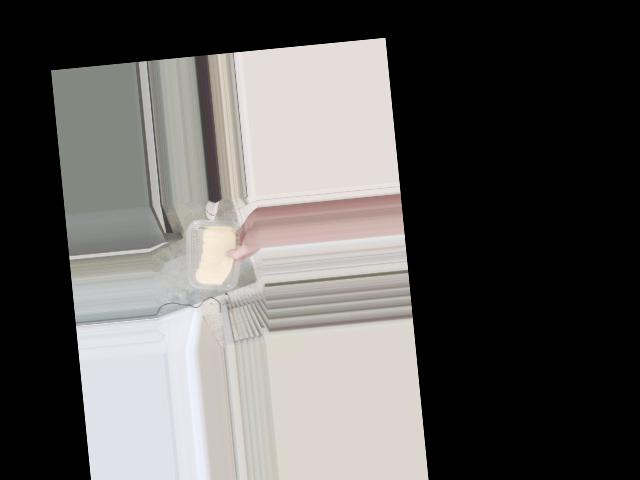cheese: (187, 216, 245, 292)
